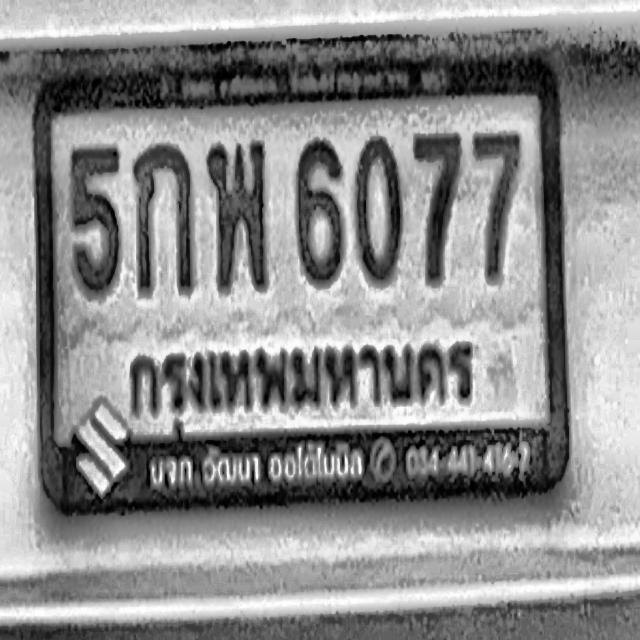license-plate: (40, 47, 574, 520)
